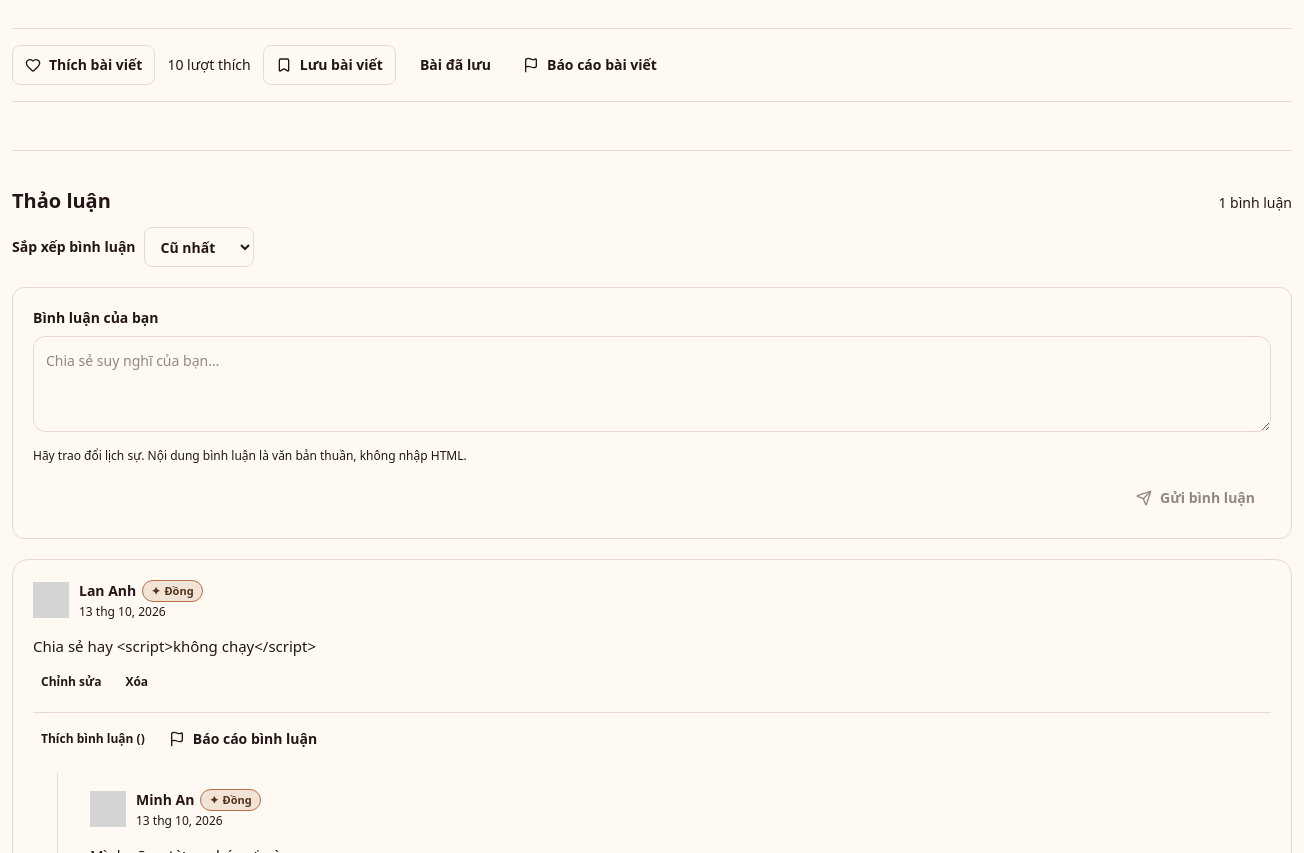
CommunityPostEngagement › lets only the author edit and delete a comment, preserving replies as a tombstone
Expected: the text "Chia sẻ hay <script>không chạy</script>" is shown, [33,636,316,656]
Expected: the number of buttons named "Xóa bình luận" is 1, [117,664,156,700]
Step 1. Click the button with aria-label "Chỉnh sửa bình luận" → {"x": 71, "y": 682}, box [33,664,109,700]
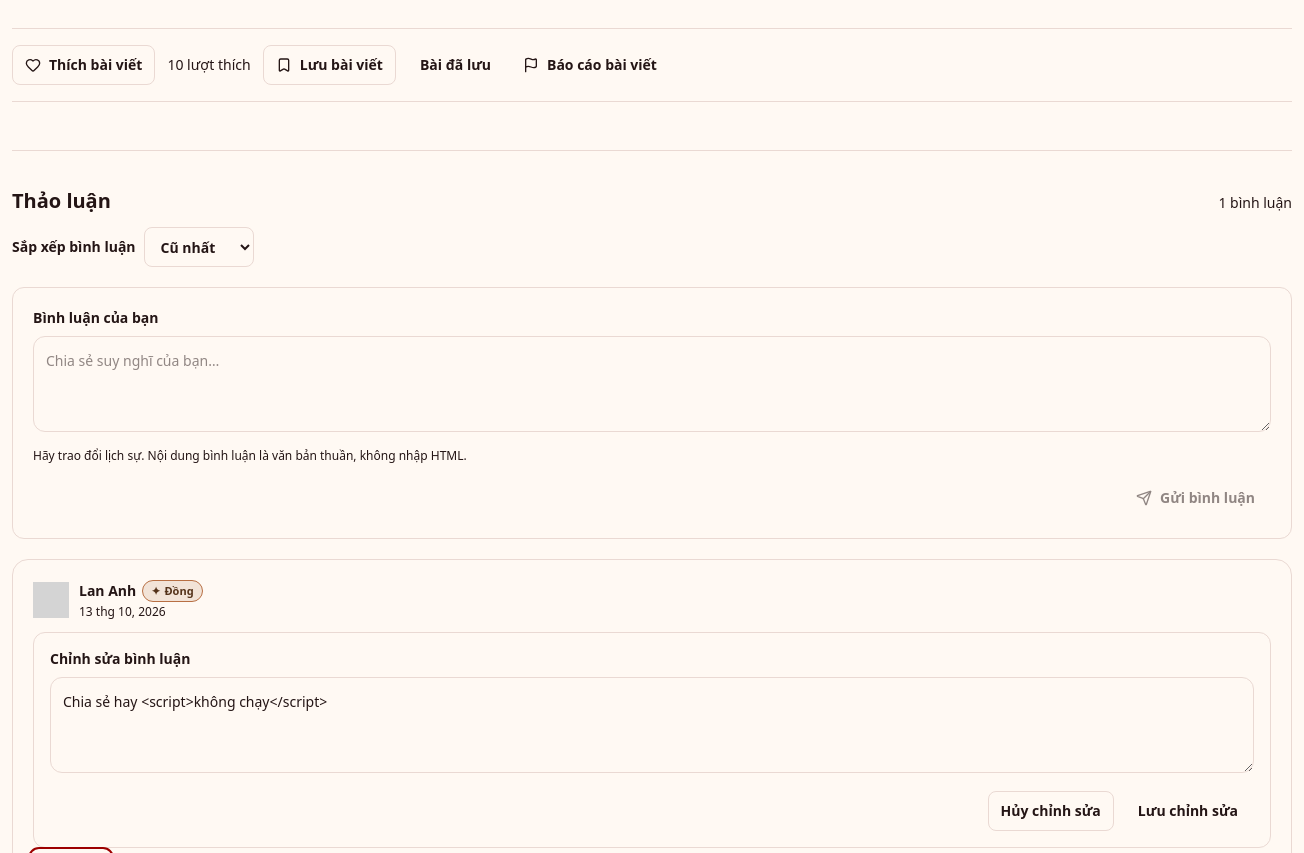
Step 2. Replace the text in the text box labelled "Chỉnh sửa bình luận" with "Nội dung đã chỉnh sửa" → {"x": 652, "y": 725}, box [50,677,1254,773]
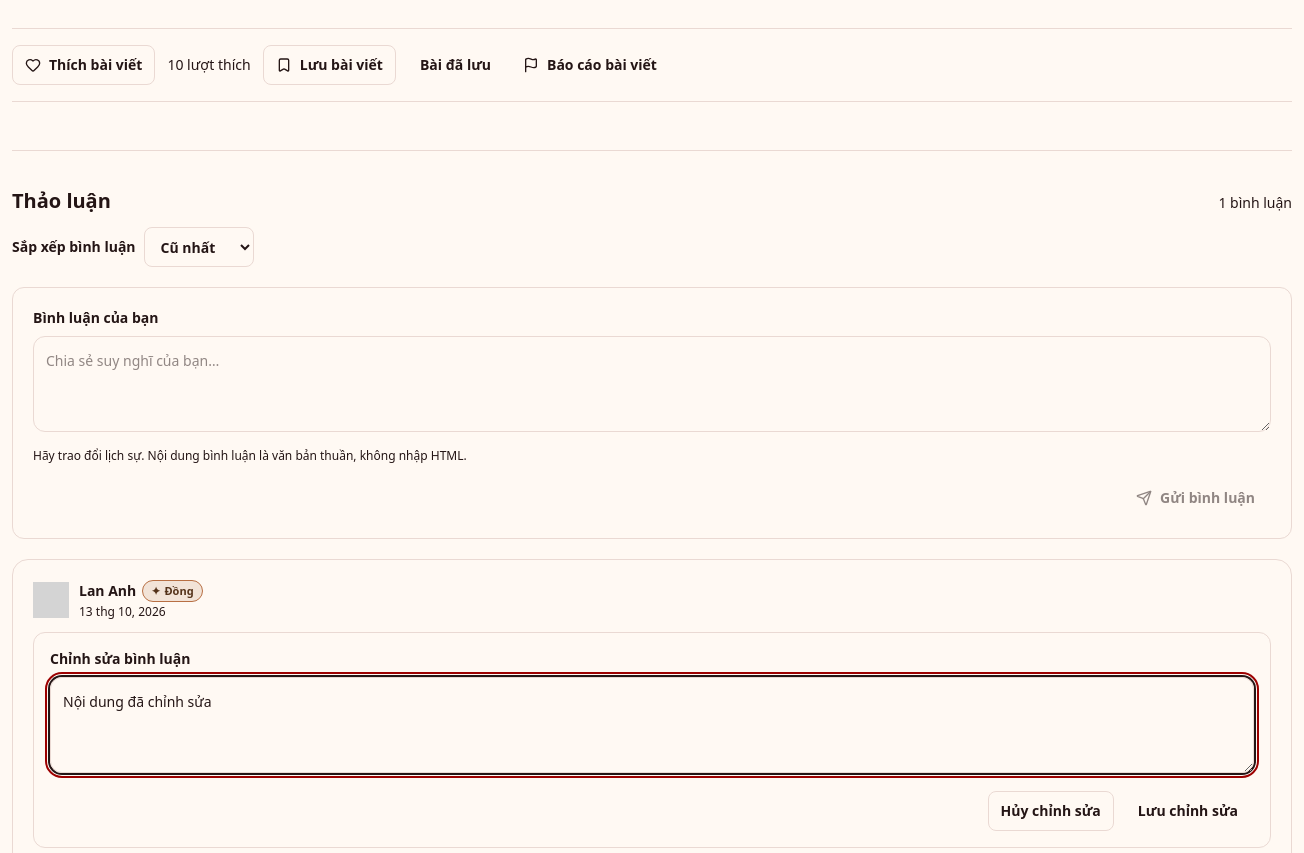
Step 3. Click the button "Lưu chỉnh sửa" → {"x": 1188, "y": 811}, box [1122,791,1254,831]
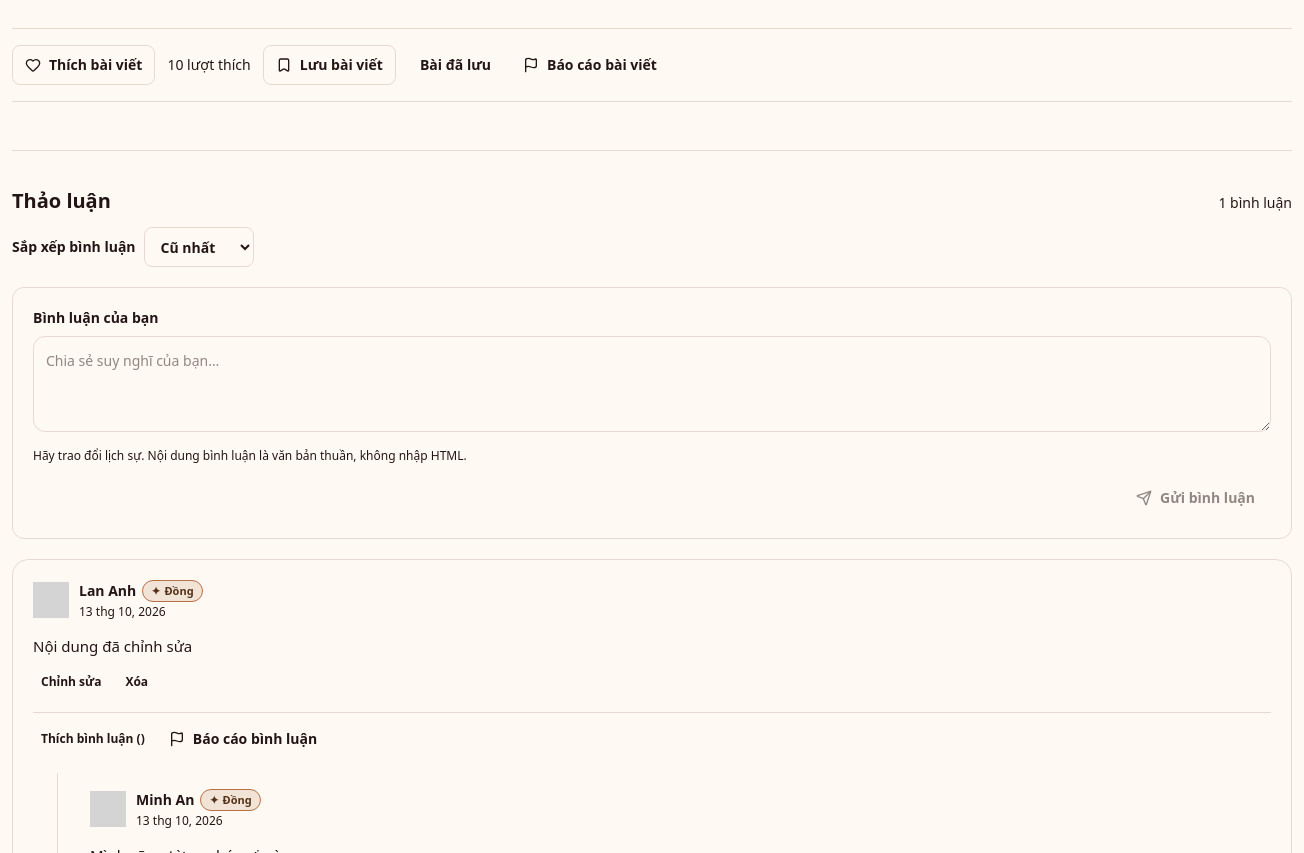
Expected: the text "Nội dung đã chỉnh sửa" is shown, [33,636,192,656]
Step 4. Click the button with aria-label "Xóa bình luận" → {"x": 137, "y": 682}, box [117,664,156,700]
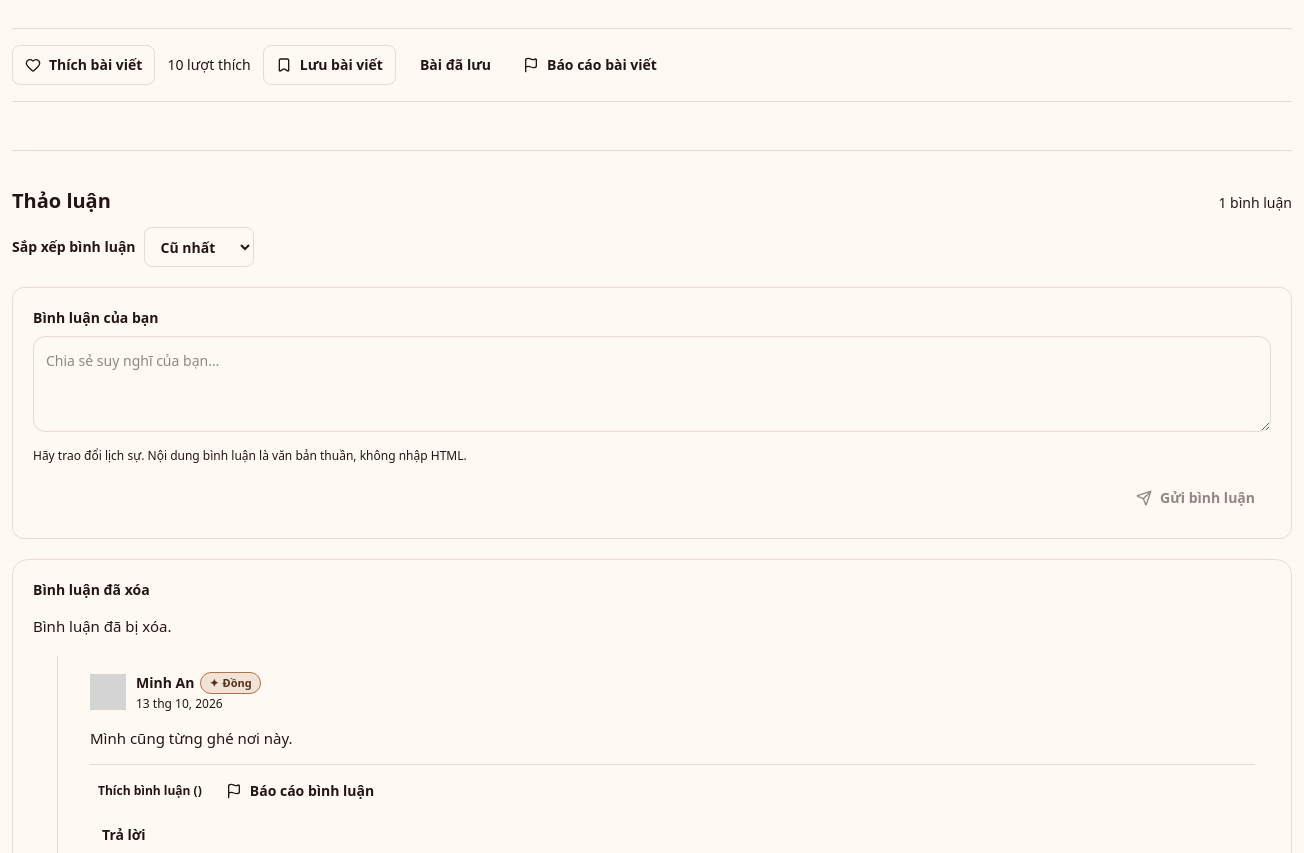
Expected: the text "Mình cũng từng ghé nơi này." is shown, [90,728,293,748]
Expected: the text "Bình luận đã bị xóa." is shown, [33,616,172,636]
Expected: the link "Lan Anh" is gone
